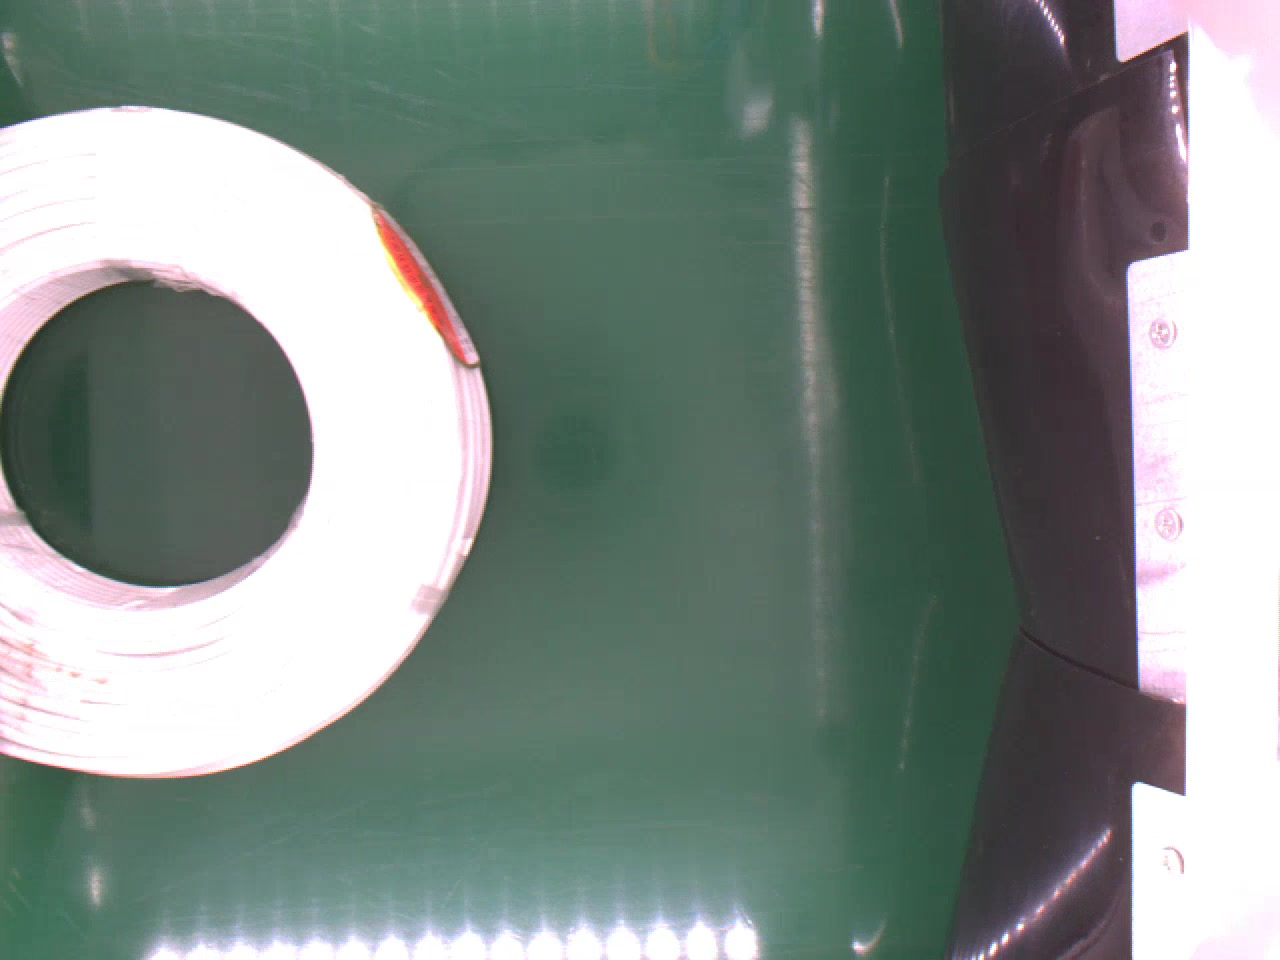white: (0, 95, 492, 785)
